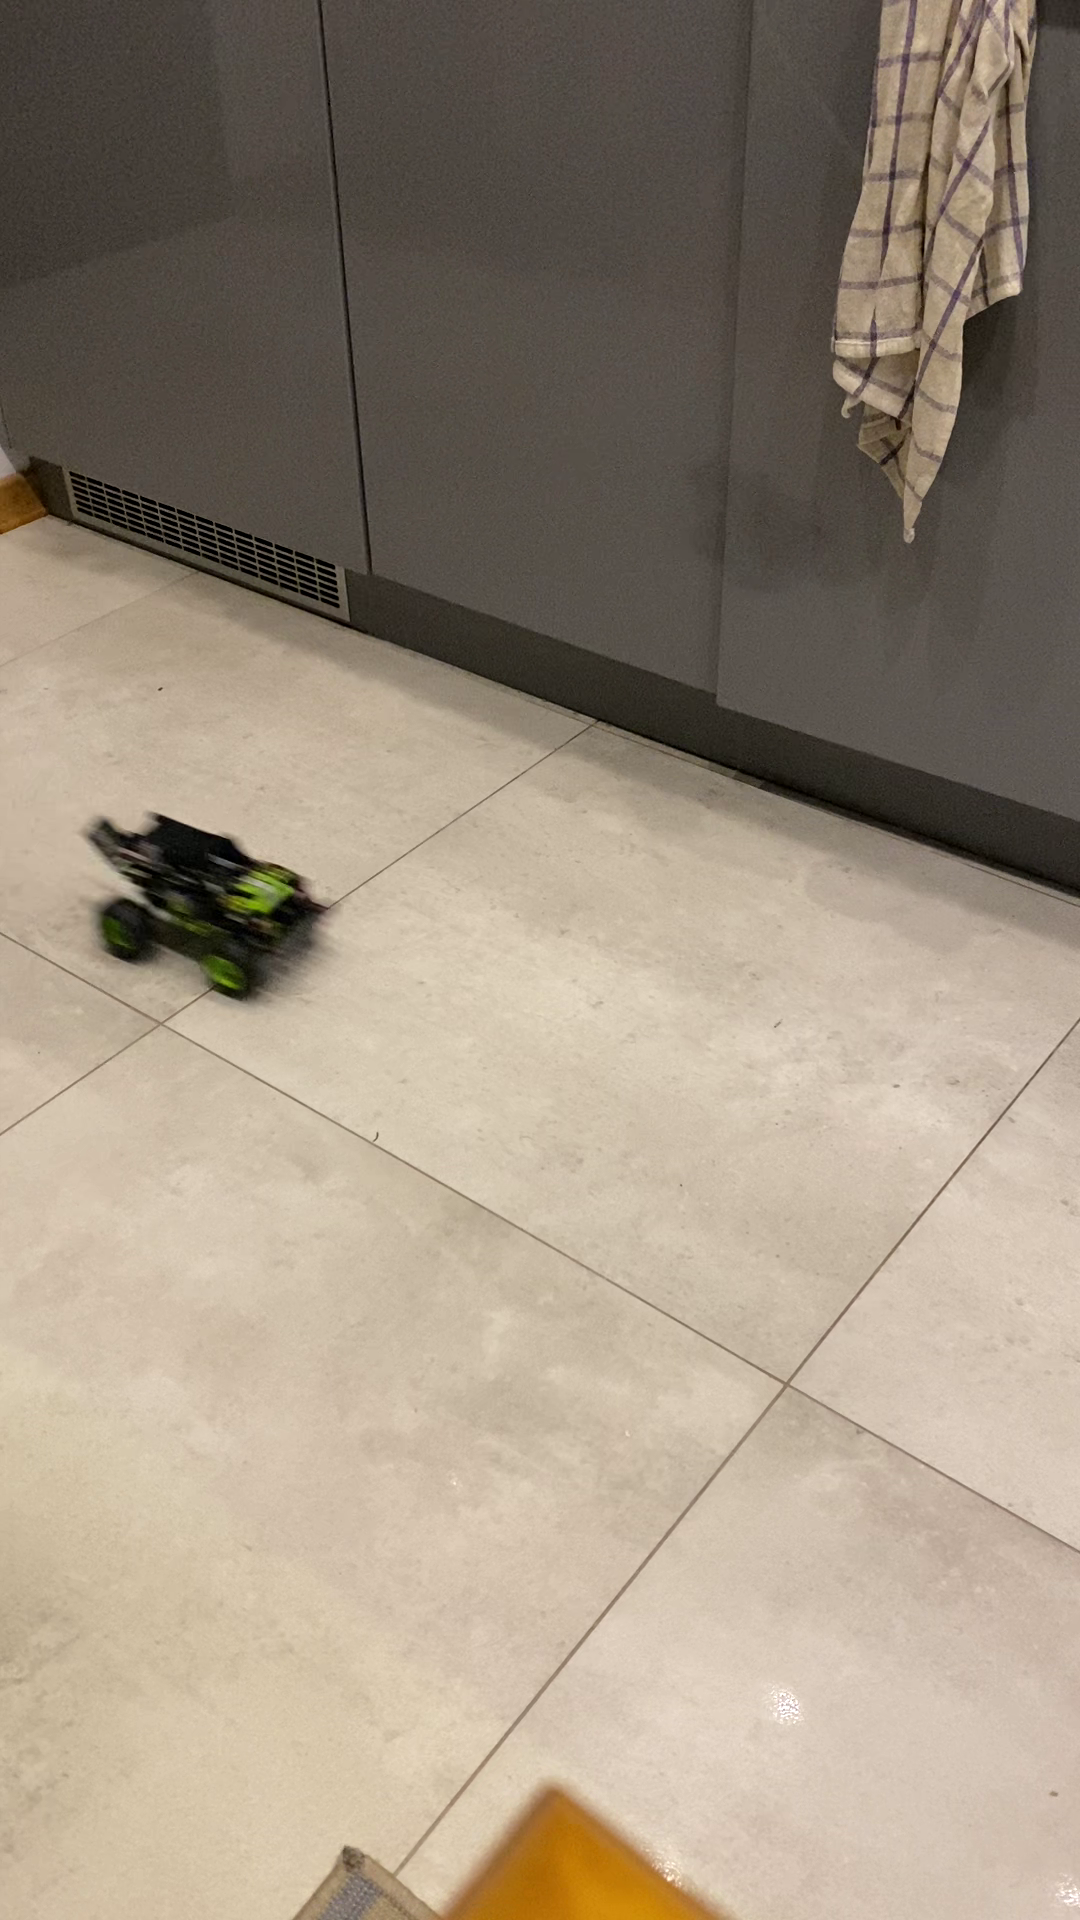car: (88, 811, 334, 1006)
